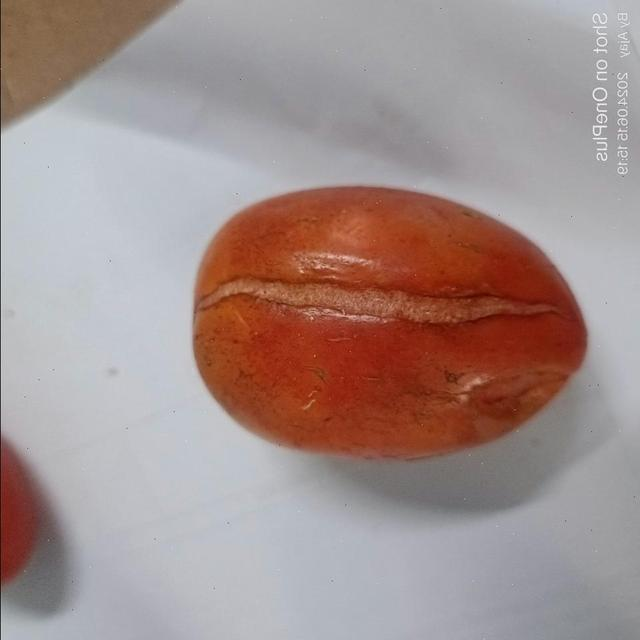Cracking Fruit: (75, 114, 452, 326)
